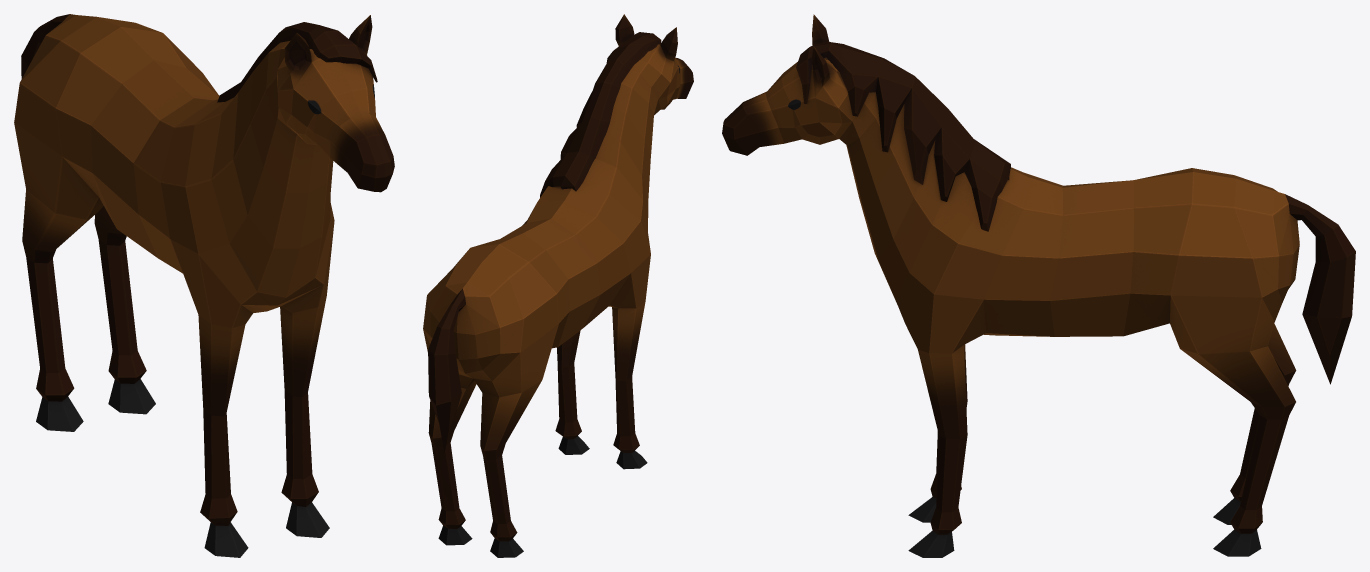
File: Horse.glb
3 views of the same model, side by side, from view 1: azimuth 30°, elevation 25°; view 2: azimuth 150°, elevation 25°; view 3: azimuth 270°, elevation 25° (orthographic). The views are drawn at different scales.
Visible parts, largest first — view 1: WildHorse_mesh; view 2: WildHorse_mesh; view 3: WildHorse_mesh.
Boxes of the visible parts, <box> form: WildHorse_mesh: <box>14,14,394,557</box>; WildHorse_mesh: <box>423,14,693,557</box>; WildHorse_mesh: <box>722,14,1355,557</box>.
Size of the model in its own units: 3.49 by 12.82 by 14.65.
Materials: 1 (1 with a texture image).
